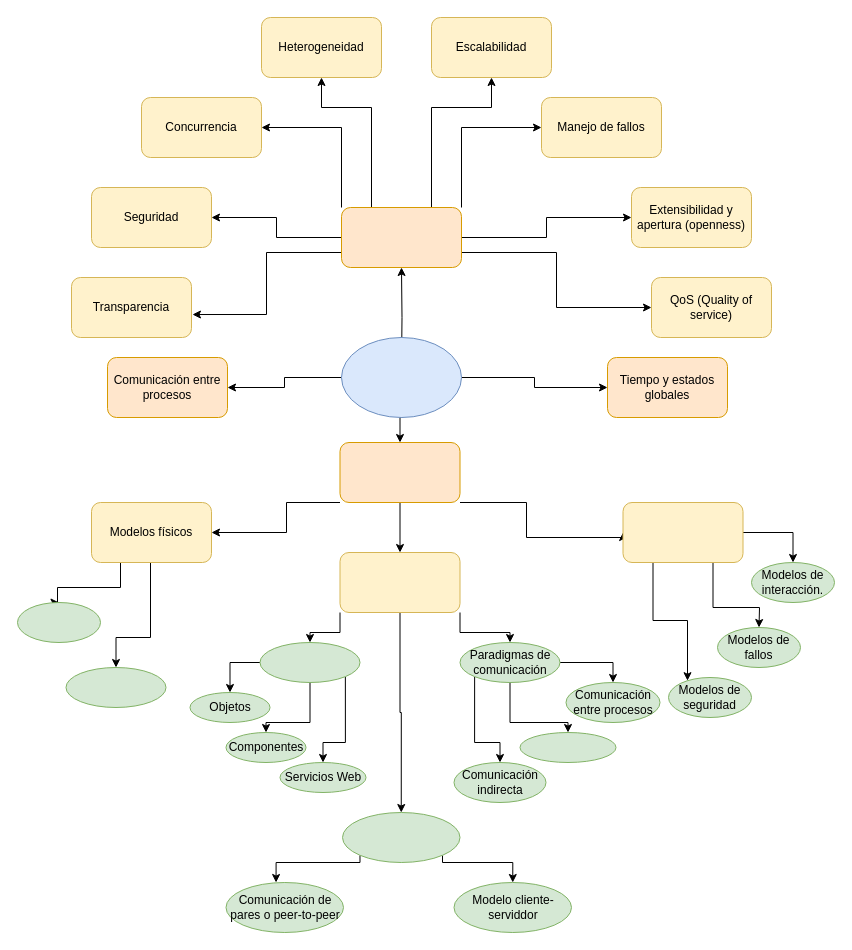
Some shapes in this 852 by 950 pixel diagram are drawn without their labels. The box of each missing label's shape, as (x1, y1, x2, y2) in pixels:
Entidades de comunicación: (259, 642, 360, 682)
Hardware: (16, 602, 100, 642)
interconexiones: (65, 666, 166, 708)
Invocación remota: (519, 732, 616, 762)
Modelado: (339, 442, 460, 502)
Modelos arquitectónicos: (339, 552, 460, 612)
Modelos fundamentales: (622, 502, 743, 562)
Retos: (340, 206, 462, 268)
Roles y responsabilidades: (342, 812, 460, 862)
Sistemas Distribuidos: (340, 336, 462, 418)
